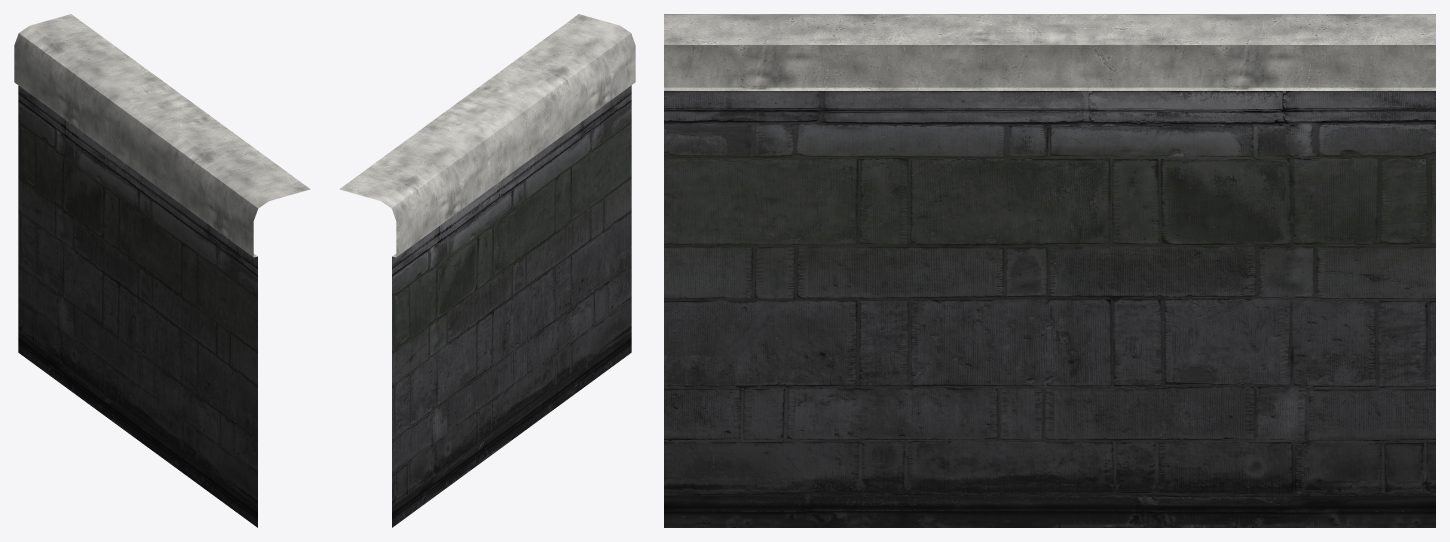
The model's file is SM_Banchina_Mod4m_v2_LOD2.fbx.
The picture shows the model from 3 angles, left to right: view 1: azimuth 30°, elevation 25°; view 2: azimuth 150°, elevation 25°; view 3: azimuth 270°, elevation 25°; orthographic projection. The views are drawn at different scales.
Visible parts, largest first — view 1: SM_Banchina_Mod4m_v2_LOD2; view 2: SM_Banchina_Mod4m_v2_LOD2; view 3: SM_Banchina_Mod4m_v2_LOD2.
Part boxes in pixels (box(x1,y1,x2,y2)): SM_Banchina_Mod4m_v2_LOD2: box(14, 14, 310, 527); SM_Banchina_Mod4m_v2_LOD2: box(339, 14, 635, 527); SM_Banchina_Mod4m_v2_LOD2: box(664, 14, 1435, 527).
Bounding box in the file's own units: 55 × 400 × 300.
2 materials, 2 textured.
